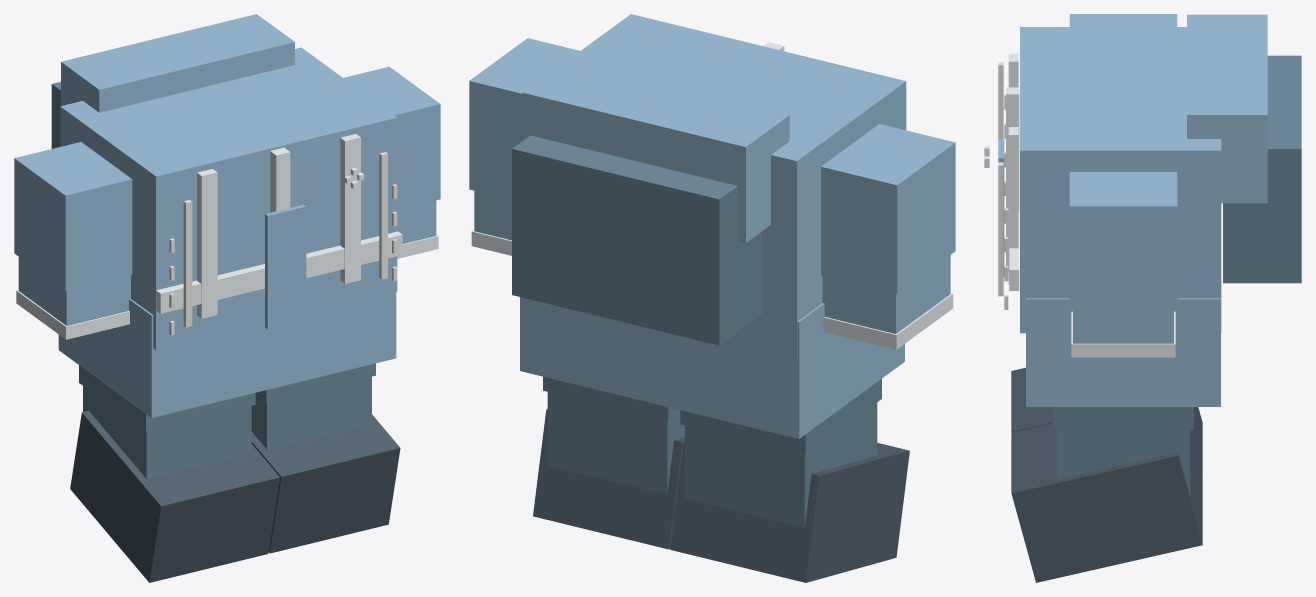
Rendered from raincoat-sky.glb.
The picture shows the model from 3 angles, left to right: view 1: azimuth 30°, elevation 25°; view 2: azimuth 150°, elevation 25°; view 3: azimuth 270°, elevation 25°; orthographic projection. The views are drawn at different scales.
Visible parts, largest first — view 1: jacket, coat-tails, shoe-Right, upper-sleeve-Right, rain-hood, shoe-Left, lower-trouser-Right, upper-sleeve-Left, lower-trouser-Left, design-raincoat-storm-flap, lower-sleeve-Right, reflective-band (+11 smaller); view 2: backpack, jacket, coat-tails, rain-hood, upper-sleeve-Right, shoe-Right, lower-trouser-Right, lower-trouser-Left, shoe-Left, upper-sleeve-Left, lower-sleeve-Right, trouser-Right (+4 smaller); view 3: jacket, shoe-Left, coat-tails, upper-sleeve-Left, rain-hood, backpack, lower-trouser-Left, lower-sleeve-Left, trouser-Left, shoe-Right, cuff-Left, upper-sleeve-Right (+5 smaller).
Part boxes in pixels (x1,y1,x2,y2): jacket: (60,47,397,350); coat-tails: (58,292,396,417); shoe-Right: (70,410,279,582); upper-sleeve-Right: (14,142,132,290); rain-hood: (61,14,294,112); shoe-Left: (251,414,400,553); lower-trouser-Right: (83,386,251,478); upper-sleeve-Left: (343,66,440,209); lower-trouser-Left: (251,376,371,449); design-raincoat-storm-flap: (265,204,306,329); lower-sleeve-Right: (18,257,130,325); reflective-band: (156,231,402,313); backpack: (512,135,761,345); jacket: (521,14,906,359); coat-tails: (520,297,904,438); rain-hood: (522,60,789,242); upper-sleeve-Right: (821,124,955,293); shoe-Right: (670,442,909,582); lower-trouser-Right: (685,402,877,527); lower-trouser-Left: (547,392,684,494); shoe-Left: (533,409,684,549); upper-sleeve-Left: (469,38,579,199); lower-sleeve-Right: (822,255,950,333); trouser-Right: (680,379,881,454); jacket: (1020,27,1221,333); shoe-Left: (1011,423,1202,582); coat-tails: (1026,298,1220,406); upper-sleeve-Left: (1069,172,1177,305); rain-hood: (1187,14,1267,203); backpack: (1223,55,1301,283); lower-trouser-Left: (1056,429,1190,495); lower-sleeve-Left: (1073,306,1173,343); trouser-Left: (1053,407,1193,429); shoe-Right: (1011,367,1202,483); cuff-Left: (1071,311,1175,357); upper-sleeve-Right: (1069,14,1177,26).
Size of the model in its own units: 1.07 by 1.19 by 0.748.
